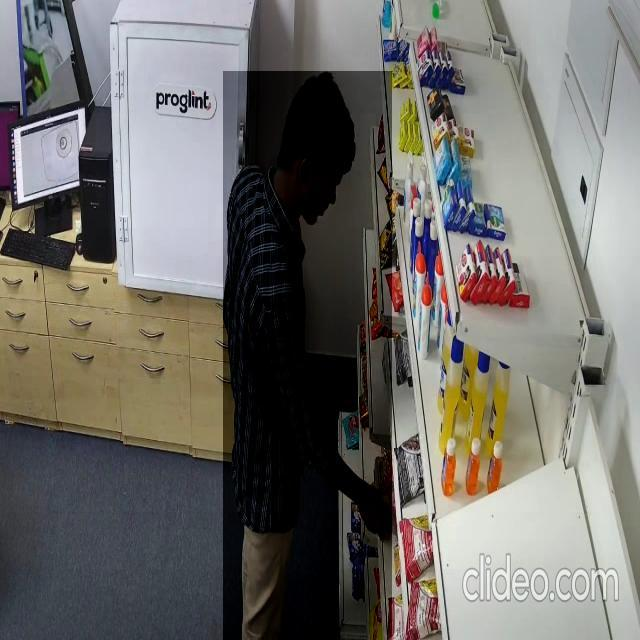normal: (223, 71, 392, 640)
